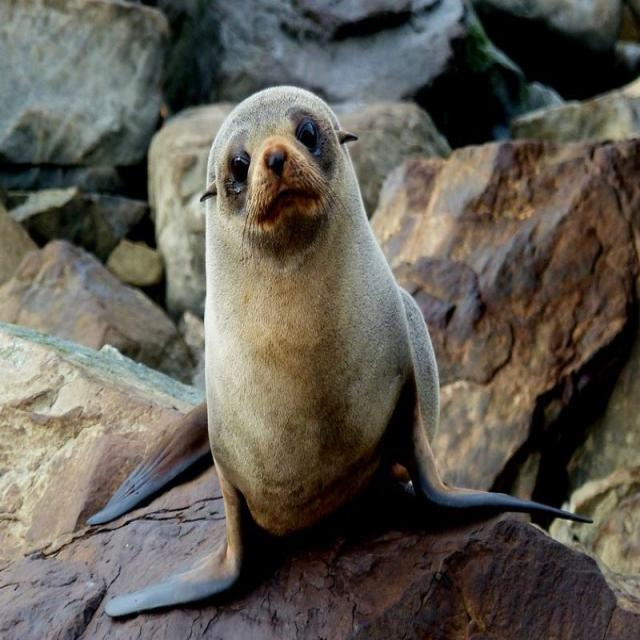WaterDog: (85, 70, 595, 622)
